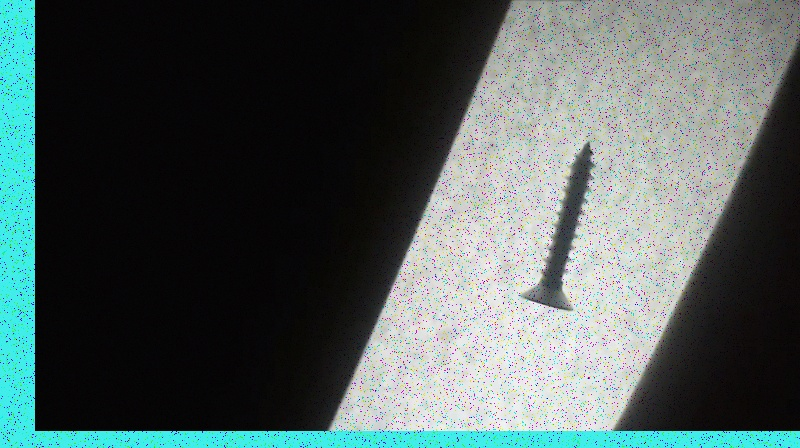S001: (516, 134, 601, 315)
